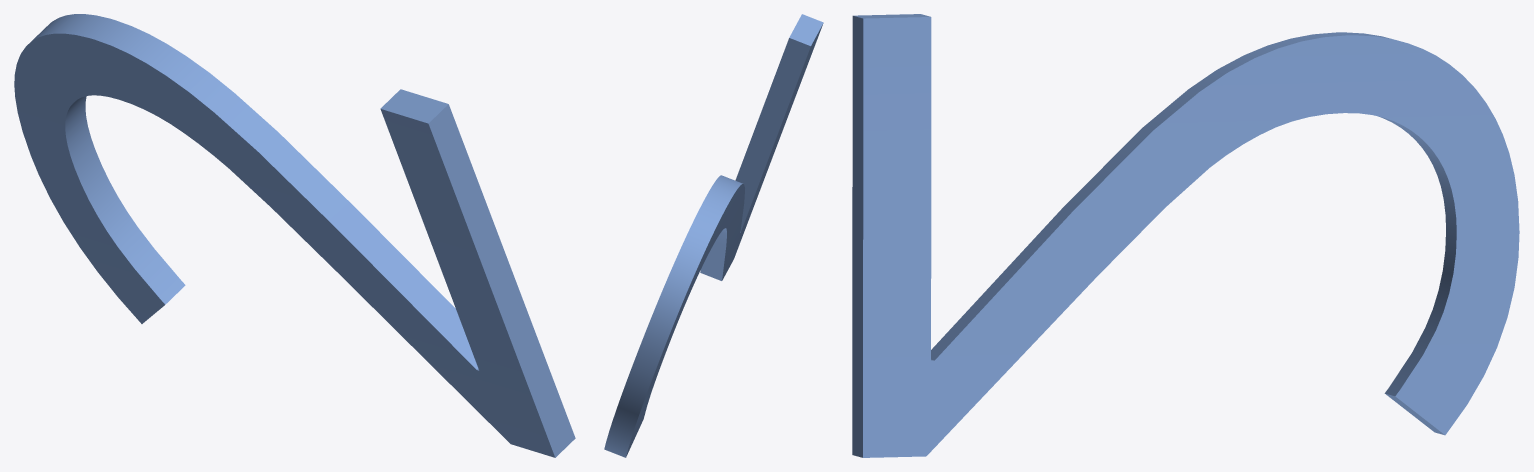
The model's file is New_Number_2.gltf.
3 renders of one model, left to right at view 1: azimuth 30°, elevation 25°; view 2: azimuth 150°, elevation 25°; view 3: azimuth 270°, elevation 25°, orthographic. The views are drawn at different scales.
Parts seen in each view (by area): view 1: Part 704; view 2: Part 704; view 3: Part 704.
Part boxes in pixels (x1,y1,x2,y2): Part 704: (14,14,575,457); Part 704: (604,14,823,457); Part 704: (852,14,1519,457).
Bounding box in the file's own units: 0.00236 × 0.00355 × 0.00501.
